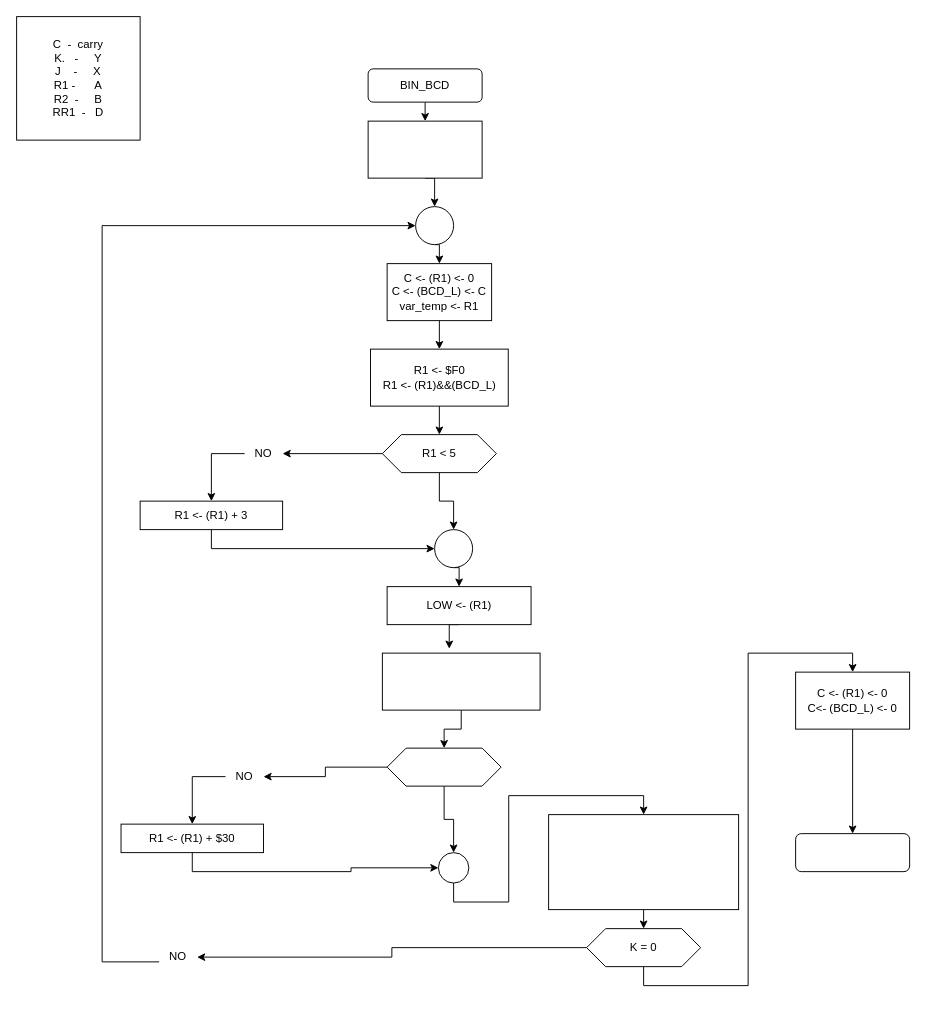
The diagram is 926 pixels wide and 1010 high, and some of its shapes have lost their labels. Here are the shapes that lost their labels. From the top down, the centre of each, then its label:
the point at 424,149: K <- & BCD_L <- 0
the point at 460,681: R1 <- $F0 R1 <- (R1) && (BCD_L)
the point at 443,766: R1 < $50
the point at 643,862: LOW <- (R1) BCD_L <- (R1) R1 <- TEMP
the point at 852,852: RETURN
